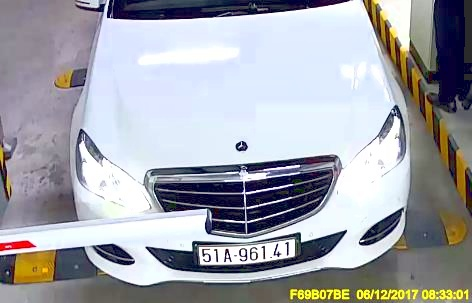plate: (187, 236, 303, 266)
